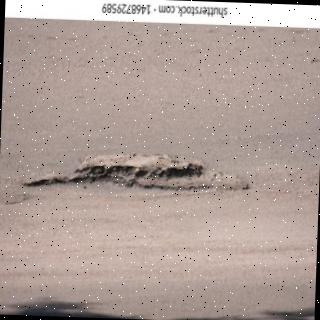pothole: (23, 154, 246, 191)
